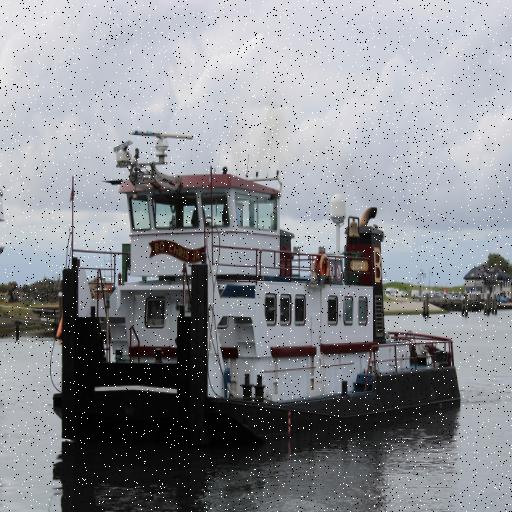tugboat: (53, 126, 467, 441)
